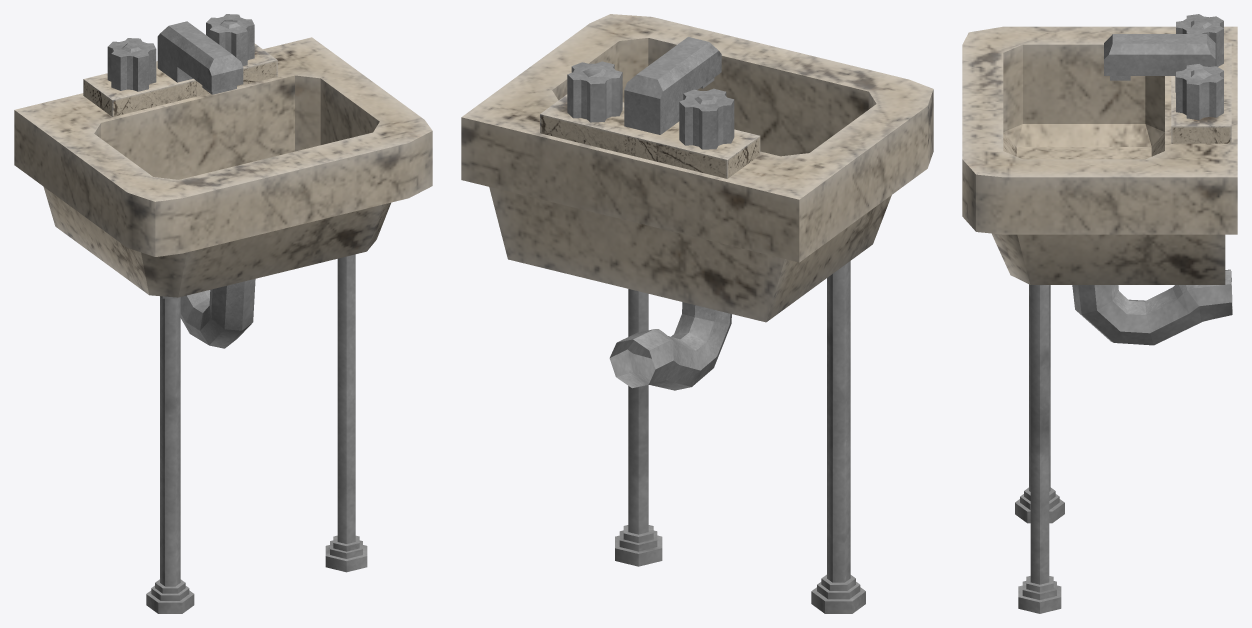
File: Basin.fbx
3 views of the same model, side by side, from view 1: azimuth 30°, elevation 25°; view 2: azimuth 150°, elevation 25°; view 3: azimuth 270°, elevation 25° (orthographic). The views are drawn at different scales.
Parts seen in each view (by area): view 1: sink, stand, tap1, tap_valves, base, pipe; view 2: sink, stand, base, pipe, tap_valves, tap1; view 3: sink, stand, pipe, tap1, tap_valves, base.
Part boxes in pixels (left/top/right/bottom): sink: left=14, top=37, right=432, bottom=297; stand: left=146, top=254, right=367, bottom=613; tap1: left=157, top=21, right=243, bottom=94; tap_valves: left=107, top=14, right=254, bottom=91; base: left=83, top=43, right=277, bottom=116; pipe: left=180, top=279, right=255, bottom=348; sink: left=461, top=14, right=933, bottom=322; stand: left=615, top=261, right=865, bottom=613; base: left=540, top=94, right=760, bottom=178; pipe: left=609, top=302, right=731, bottom=390; tap_valves: left=567, top=61, right=734, bottom=149; tap1: left=624, top=37, right=721, bottom=134; sink: left=962, top=26, right=1237, bottom=284; stand: left=1015, top=284, right=1064, bottom=613; pipe: left=1072, top=269, right=1232, bottom=345; tap1: left=1104, top=34, right=1215, bottom=92; tap_valves: left=1176, top=14, right=1223, bottom=119; base: left=1171, top=42, right=1231, bottom=143.
Bounding box in the file's own units: 41.56 × 66.87 × 32.06.
Materials: 1 (1 with a texture image).
